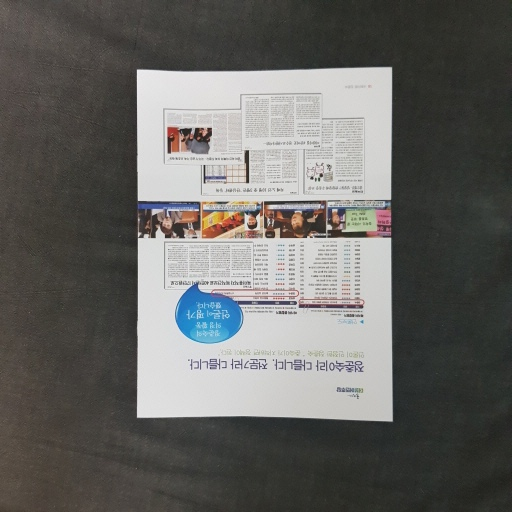Paper_2: (129, 57, 405, 438)
